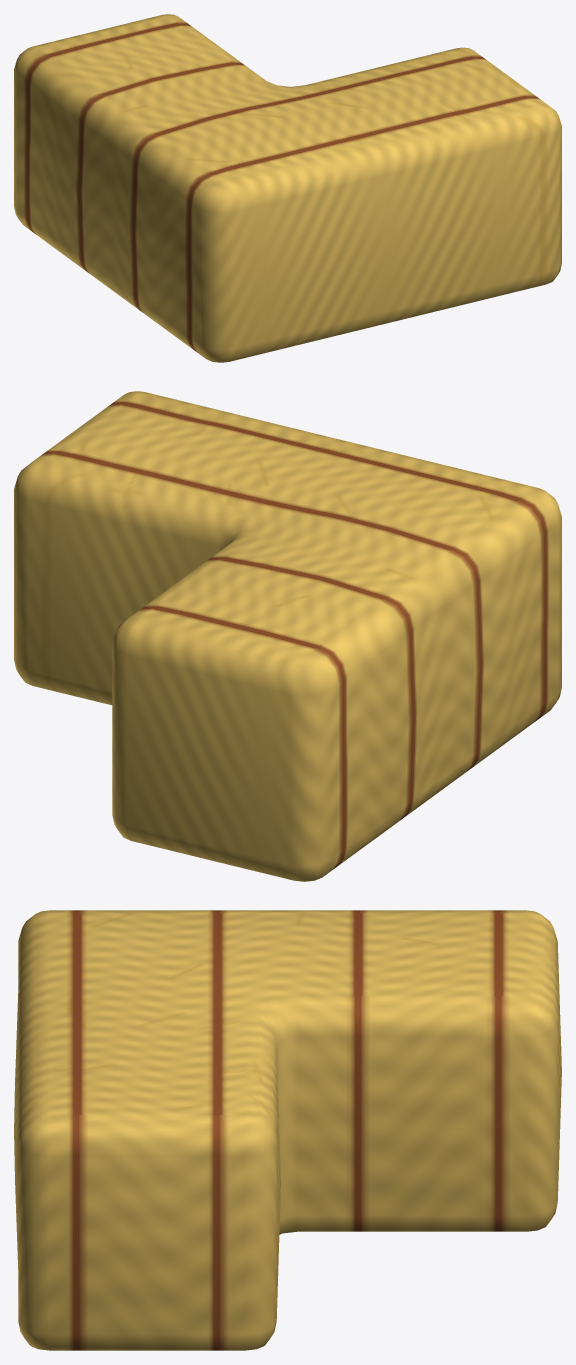
The model's file is HayBale_CornerMirror.fbx.
3 views of the same model, one above another, from view 1: azimuth 30°, elevation 25°; view 2: azimuth 150°, elevation 25°; view 3: azimuth 270°, elevation 25° (orthographic). The views are drawn at different scales.
Parts seen in each view (by area): view 1: HayBale_CornerMirror; view 2: HayBale_CornerMirror; view 3: HayBale_CornerMirror.
Part boxes in pixels (box(x1,y1,x2,y2)): HayBale_CornerMirror: box(14, 14, 561, 362); HayBale_CornerMirror: box(14, 391, 561, 881); HayBale_CornerMirror: box(14, 910, 561, 1350).
Bounding box in the file's own units: 1.95 × 0.9075 × 1.95.
1 material, 1 textured.
